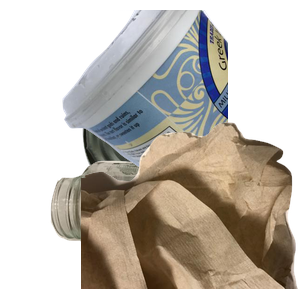glass: (48, 156, 260, 300)
metal: (80, 68, 284, 248)
plastic: (60, 10, 300, 190)
trash: (81, 120, 300, 300)
